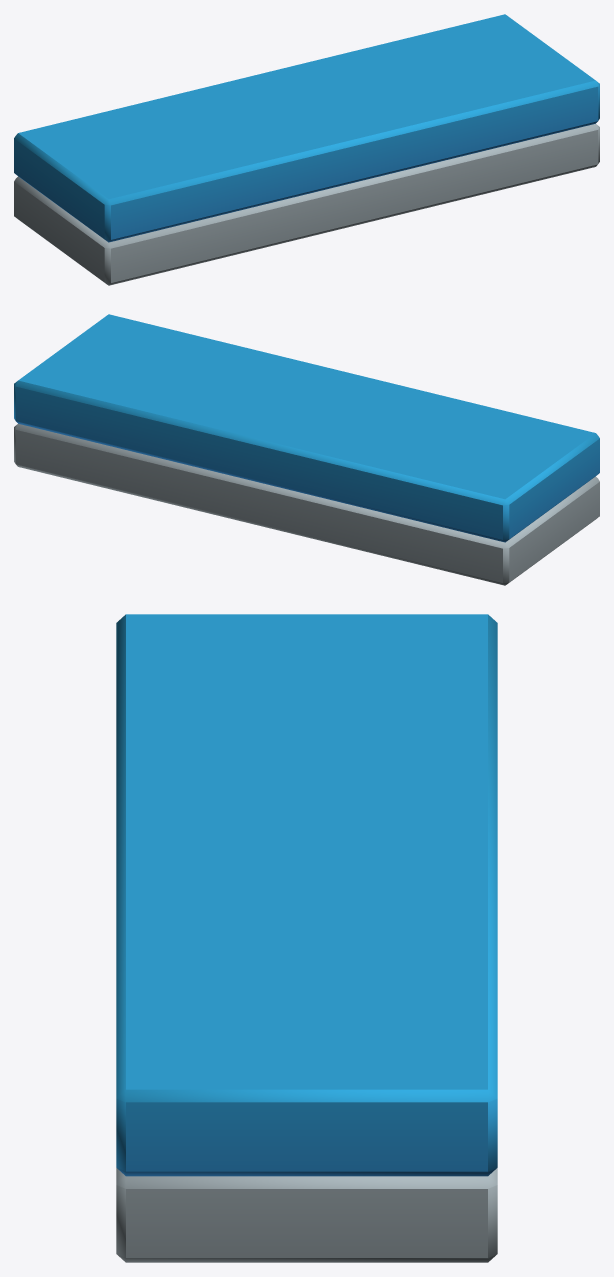
File: platform-6x2x1-blue.glb
3 views of the same model, one above another, from view 1: azimuth 30°, elevation 25°; view 2: azimuth 150°, elevation 25°; view 3: azimuth 270°, elevation 25° (orthographic). The views are drawn at different scales.
Parts seen in each view (by area): view 1: platform_6x2x1_blue; view 2: platform_6x2x1_blue; view 3: platform_6x2x1_blue.
Boxes of the visible parts, <box> form: platform_6x2x1_blue: <box>14,14,599,285</box>; platform_6x2x1_blue: <box>14,314,599,585</box>; platform_6x2x1_blue: <box>116,614,497,1262</box>.
Bounding box in the file's own units: 6 × 1 × 2.
1 material, 1 textured.
